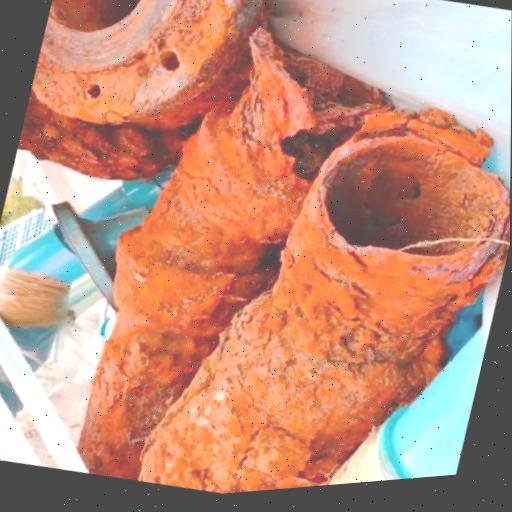corrosion: (68, 0, 512, 506), (11, 0, 262, 215)
